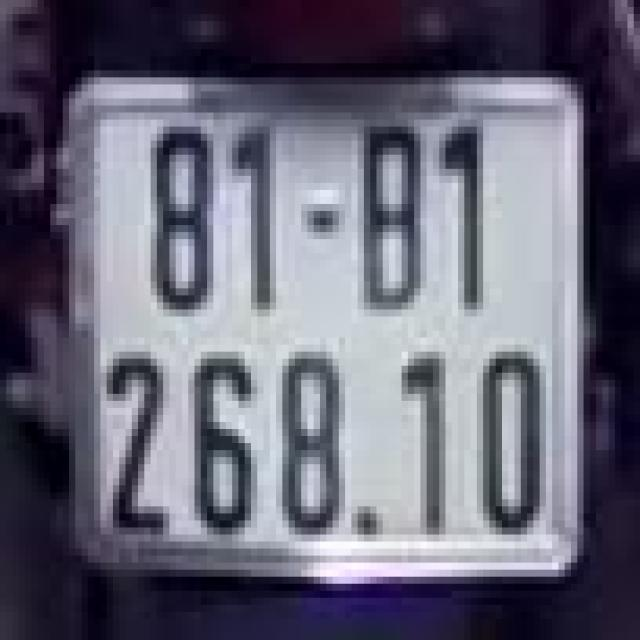0: (471, 344, 552, 534)
1: (226, 120, 289, 323), (433, 120, 496, 323), (398, 344, 455, 542)
2: (91, 348, 173, 545)
6: (175, 331, 264, 548)
8: (141, 112, 223, 324), (273, 344, 348, 542)
B: (348, 102, 424, 320)
